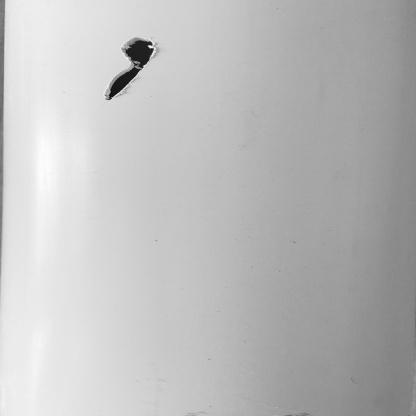kongdong: (96, 29, 165, 102)
